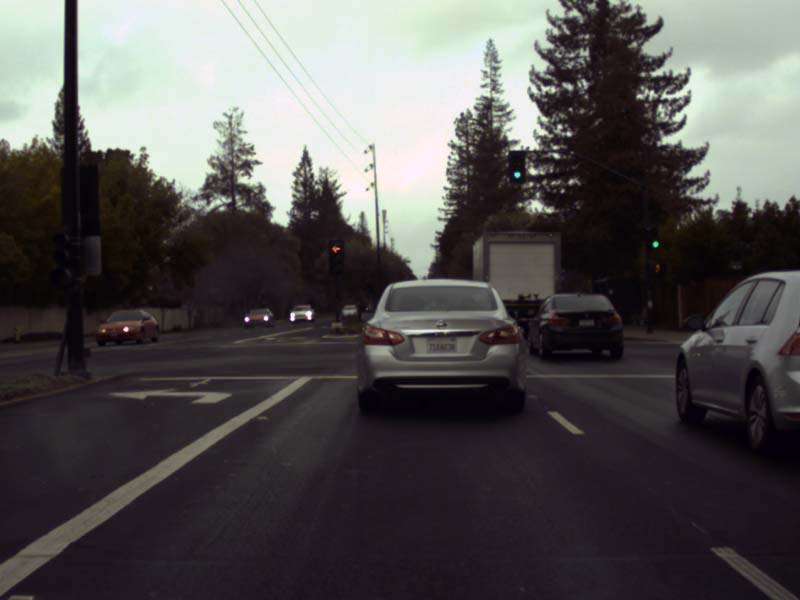Green: (508, 150, 524, 181), (647, 224, 661, 251)
Red: (328, 240, 344, 274)
